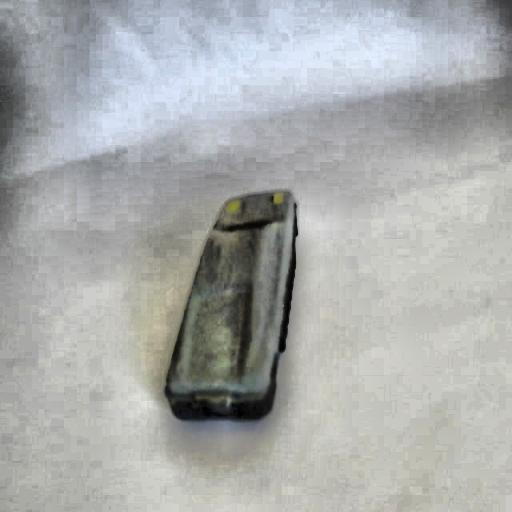normal_car: (160, 187, 300, 424)
